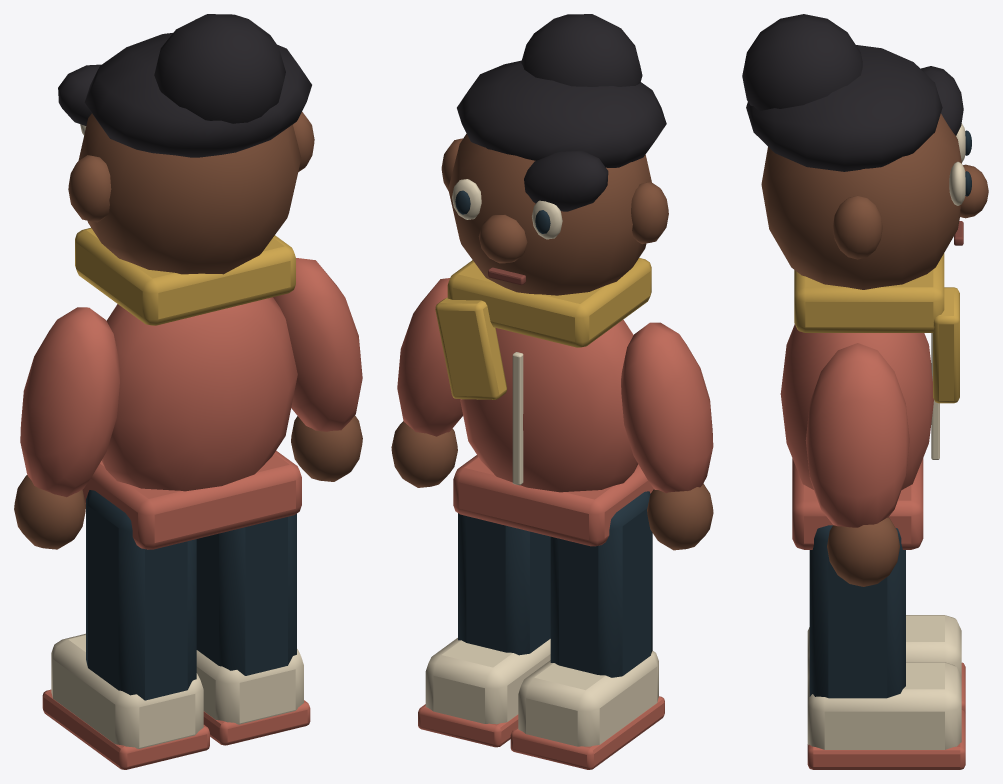
Rendered from person_1.glb.
The picture shows the model from 3 angles, left to right: view 1: azimuth 30°, elevation 25°; view 2: azimuth 150°, elevation 25°; view 3: azimuth 270°, elevation 25°; orthographic projection. The views are drawn at different scales.
Visible parts, largest first — view 1: person_1.001; view 2: person_1.001; view 3: person_1.001.
Part boxes in pixels (bbox=[...]): person_1.001: bbox=[14, 14, 362, 769]; person_1.001: bbox=[391, 14, 713, 769]; person_1.001: bbox=[742, 14, 988, 769].
Bounding box in the file's own units: 0.98 × 2.02 × 0.64.
